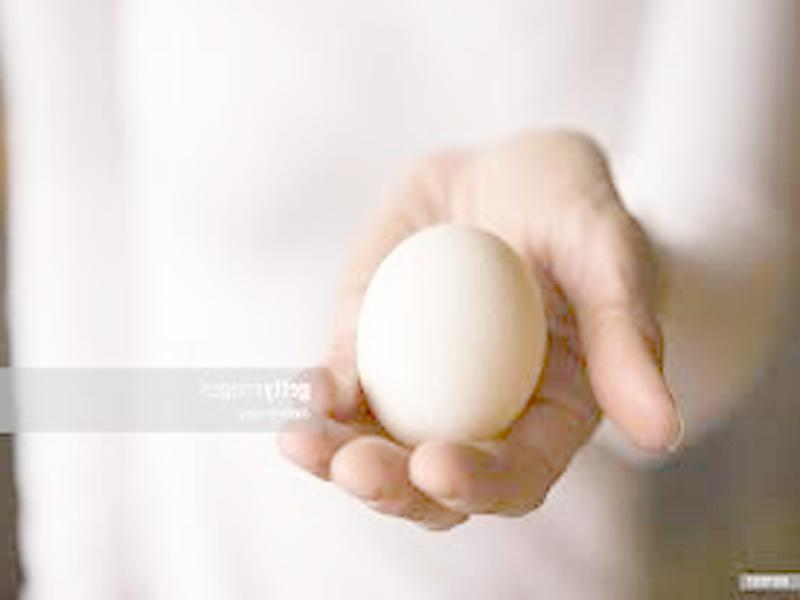Eggs: (357, 226, 549, 446)
